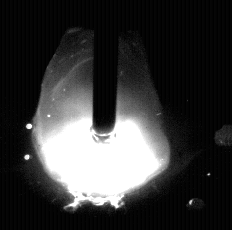arame: (93, 0, 117, 133)
poca: (33, 0, 170, 230)
